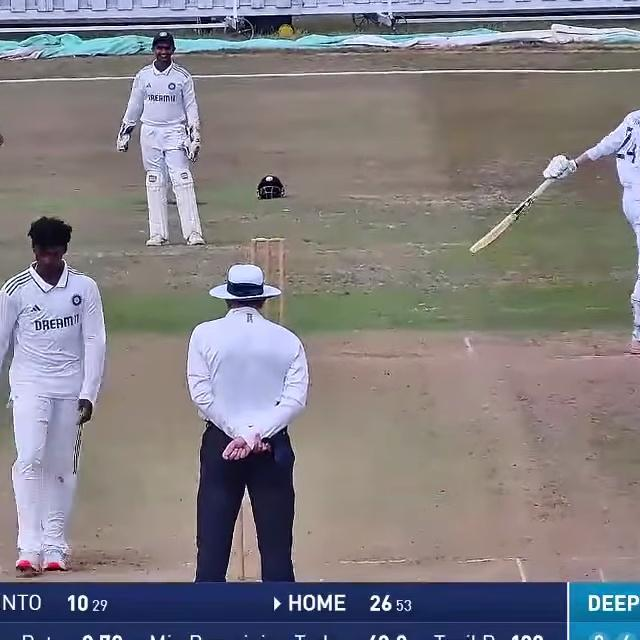umpire: (170, 253, 320, 584)
